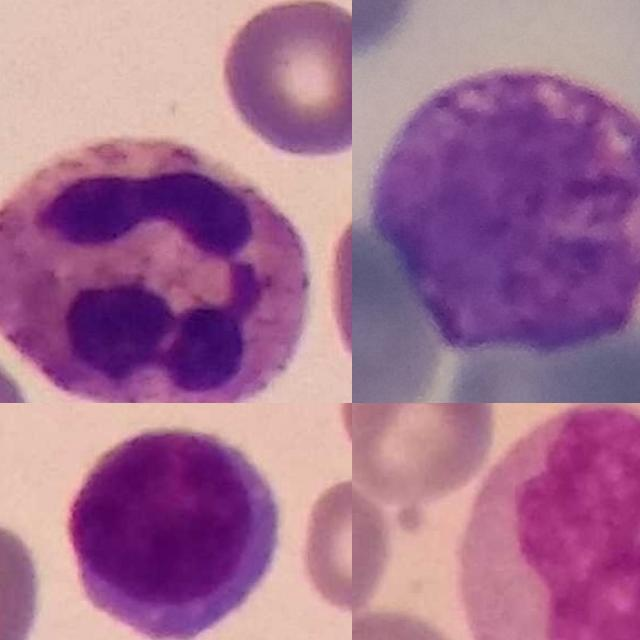Basophil: (373, 69, 640, 353)
Lymphocyte: (67, 430, 279, 640)
Monocyte: (463, 403, 640, 640)
Neutrophil: (0, 135, 310, 403)
